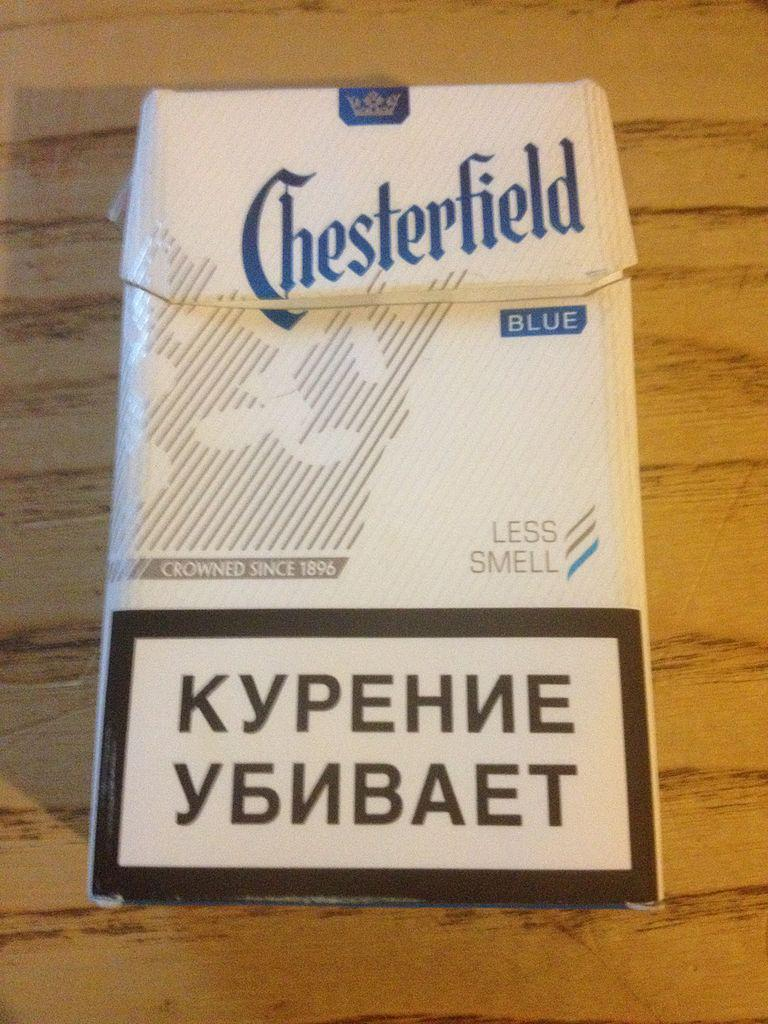chesterfield_blue: (97, 93, 639, 902)
